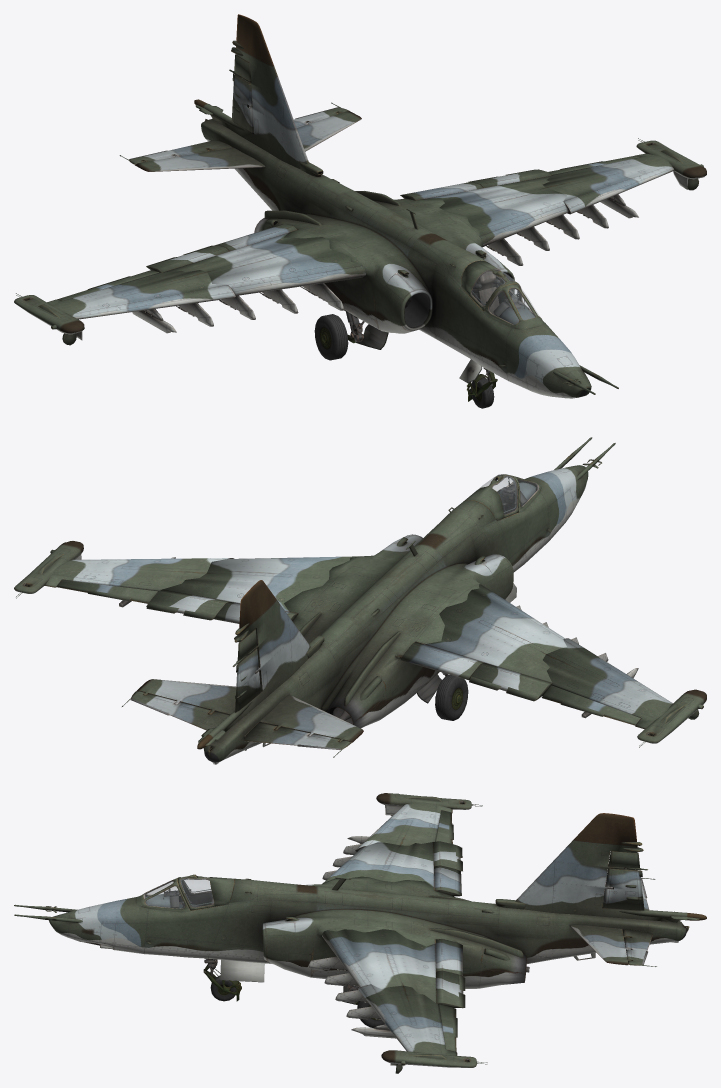
The picture shows the model from 3 angles, top to bottom: view 1: azimuth 30°, elevation 25°; view 2: azimuth 150°, elevation 25°; view 3: azimuth 270°, elevation 25°; orthographic projection. The views are drawn at different scales.
Visible parts, largest first — view 1: Object_4, Object_3, Object_5; view 2: Object_4, Object_3, Object_5; view 3: Object_4, Object_3, Object_5.
Part boxes in pixels (box(x1,y1,x2,y2)): Object_4: box(201, 102, 706, 398); Object_3: box(14, 14, 595, 408); Object_5: box(471, 269, 539, 324); Object_4: box(14, 437, 592, 764); Object_3: box(197, 443, 706, 757); Object_5: box(479, 475, 538, 514); Object_4: box(14, 876, 689, 1073); Object_3: box(14, 793, 706, 1027); Object_5: box(144, 876, 213, 908).
Bounding box in the file's own units: 294 × 95.78 × 319.
Materials: 3 (3 with a texture image).
